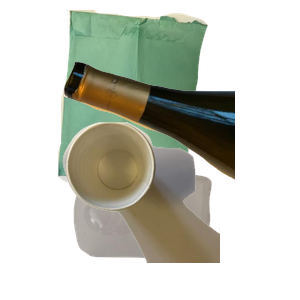glass: (60, 59, 300, 231)
paper: (55, 10, 255, 190)
plastic: (71, 169, 275, 300)
trash: (60, 120, 300, 300)
